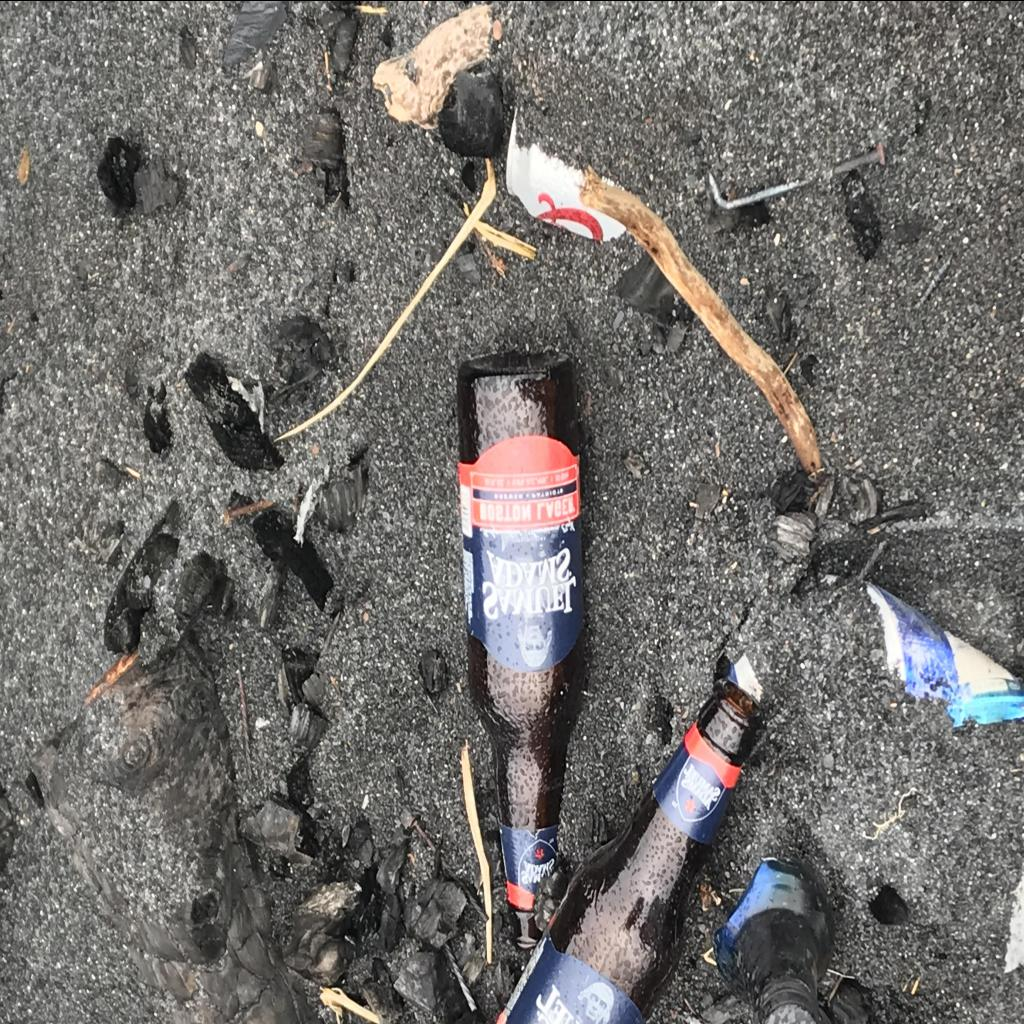Drink can: (506, 106, 626, 242)
Glass bottle: (496, 678, 766, 1024), (456, 350, 584, 950), (712, 856, 836, 1024)
Scrap metal: (709, 140, 884, 208)
Unlabeled litter: (727, 577, 1023, 727)
